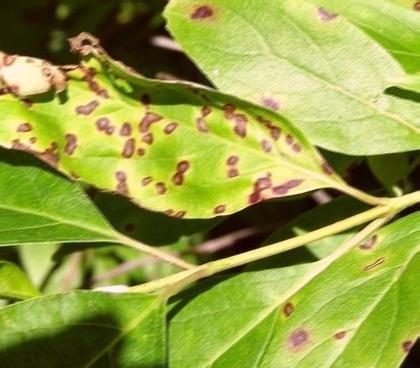Tomato leaf bacterial spot: (0, 14, 351, 228), (148, 0, 420, 155)
